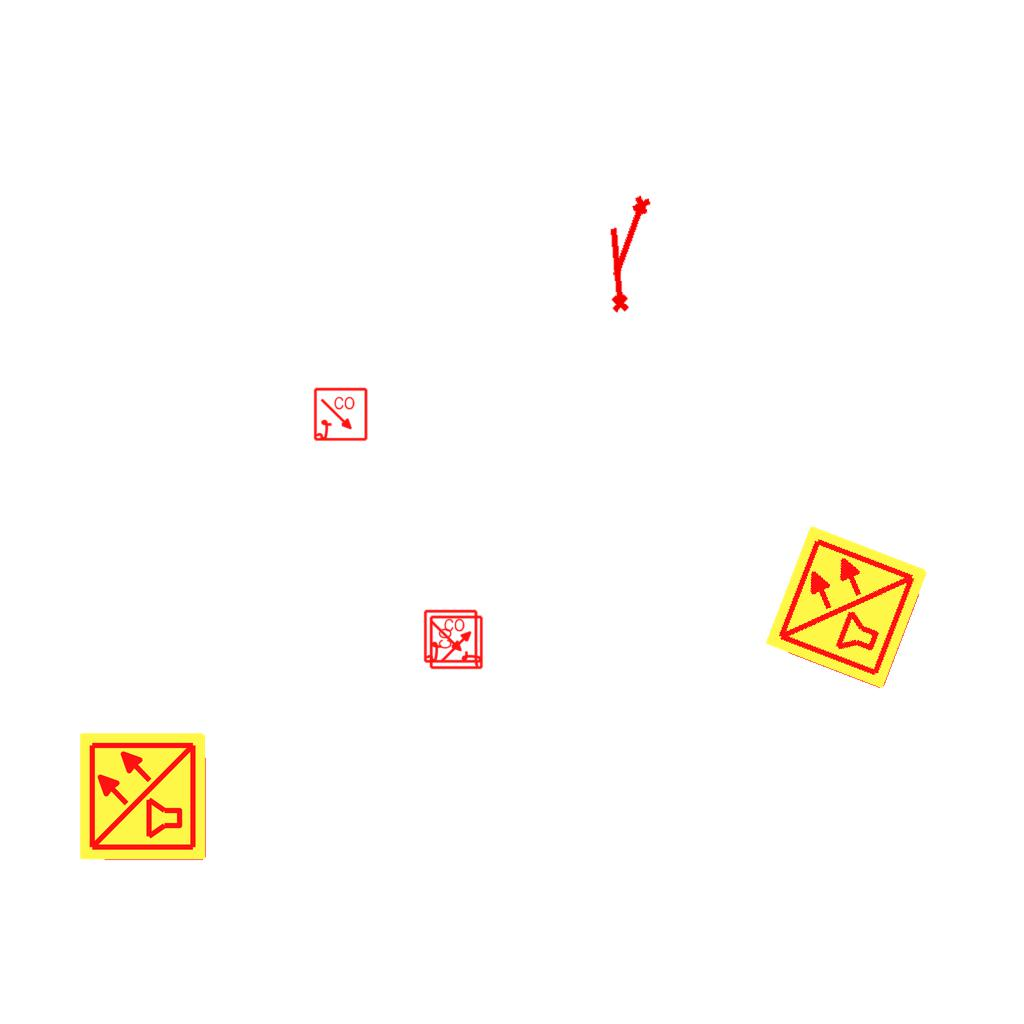ASR_Ansaugoeffnung: (605, 192, 657, 283), (600, 224, 632, 315)
OKW_Multisensormelder_(Kombination_optischer_Rauch-Kahlenmonoxid_Waerme-Melder): (761, 521, 933, 693), (77, 730, 209, 862)
ROA_Rauchmelder_optisch_mit_Signalgeber_(Sockelsirene): (313, 387, 369, 443), (423, 609, 479, 665), (429, 614, 485, 670)
